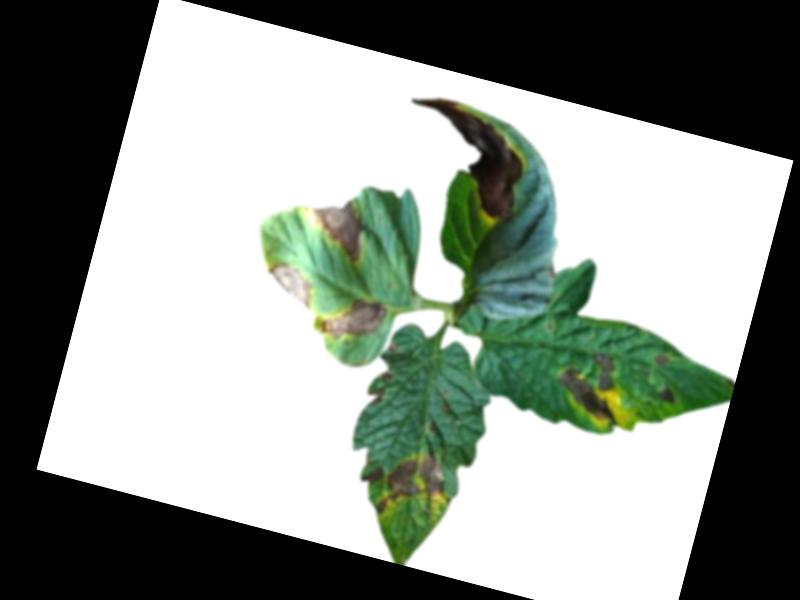Early_blight: (388, 90, 537, 223), (372, 441, 453, 528), (552, 344, 634, 426), (297, 190, 371, 261), (316, 286, 387, 350), (259, 258, 319, 309), (366, 365, 393, 409), (360, 462, 385, 489), (655, 384, 677, 404), (652, 349, 671, 366)
